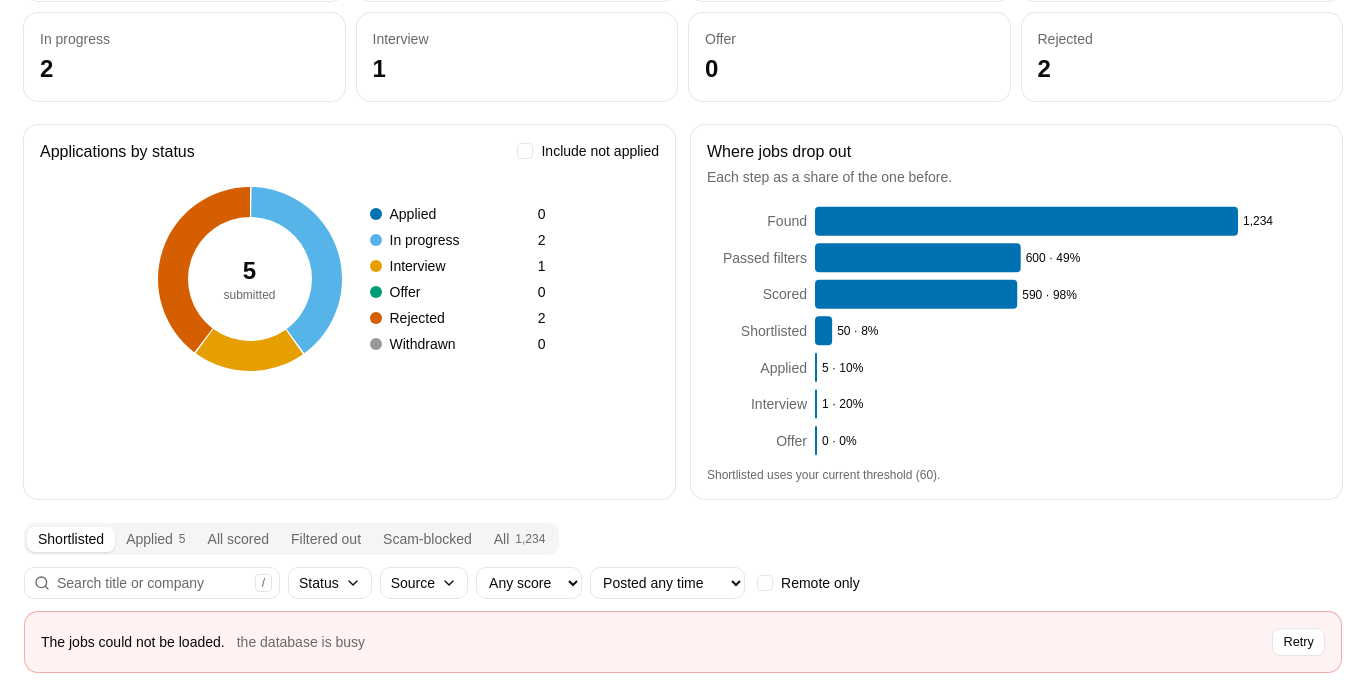
Scenario: JobsTable: rows › shows skeletons while loading, and an error with a working retry
(page scrolled)
Expected: the message named "Loading jobs" is shown, x1=24 y1=611 x2=1342 y2=673
Expected: the message named "Loading jobs" shows "the database is busy", x1=237 y1=634 x2=365 y2=650
Step 1. Click the button "Retry" → [1299, 642], box x1=1272 y1=628 x2=1325 y2=656
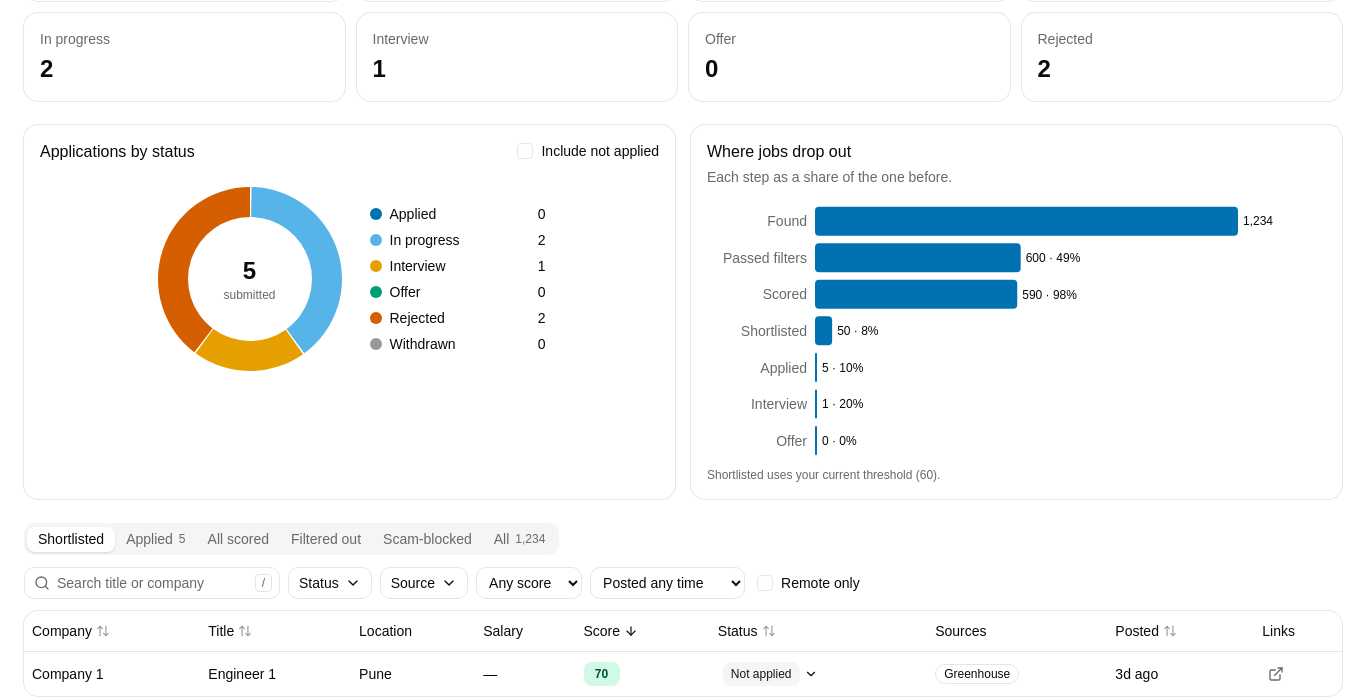
Result: the text "Company 1" is shown at x1=32 y1=666 x2=104 y2=682
